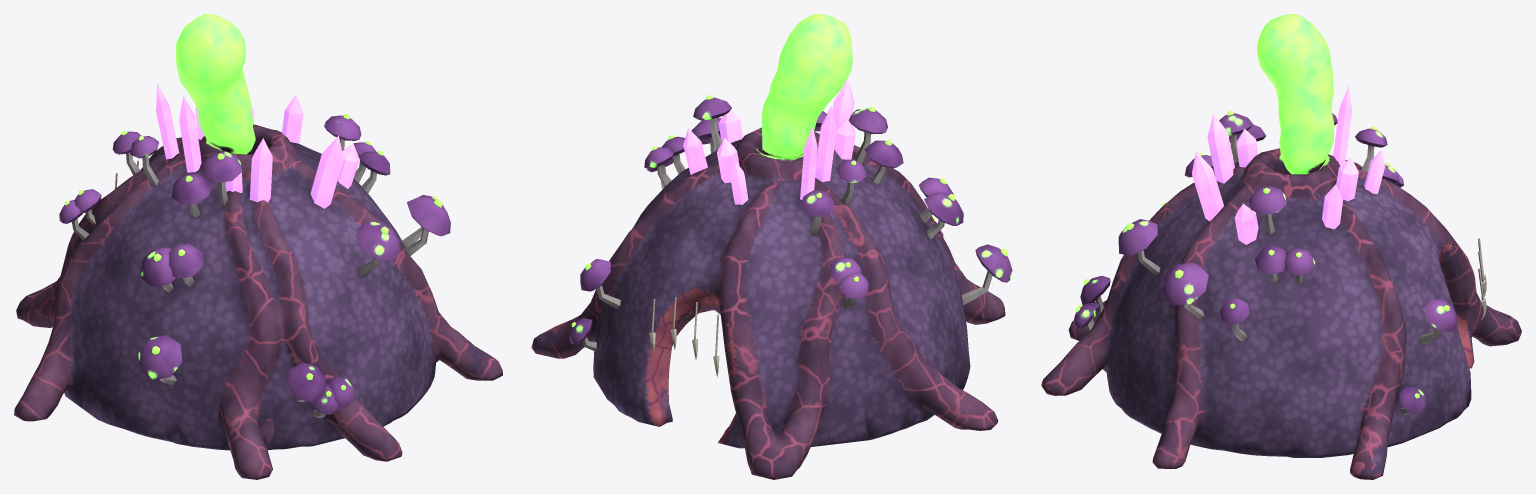
The model's file is nido_chaman.fbx.
3 renders of one model, left to right at view 1: azimuth 30°, elevation 25°; view 2: azimuth 150°, elevation 25°; view 3: azimuth 270°, elevation 25°, orthographic. The views are drawn at different scales.
Visible parts, largest first — view 1: nido, humo_neon, cristales_cristal, hongos_neon; view 2: nido, humo_neon, cristales_cristal; view 3: nido, humo_neon, cristales_cristal.
Boxes of the visible parts, box(x1,y1,x2,y2) form: nido: box(14, 115, 502, 479); humo_neon: box(175, 14, 255, 154); cristales_cristal: box(156, 83, 359, 208); hongos_neon: box(64, 114, 442, 396); nido: box(531, 97, 1012, 479); humo_neon: box(761, 14, 852, 158); cristales_cristal: box(683, 78, 855, 204); nido: box(1041, 113, 1521, 479); humo_neon: box(1257, 14, 1334, 174); cristales_cristal: box(1192, 85, 1384, 244).
Size of the model in its own units: 9.99 by 8.01 by 10.01.
Materials: 1 (1 with a texture image).
